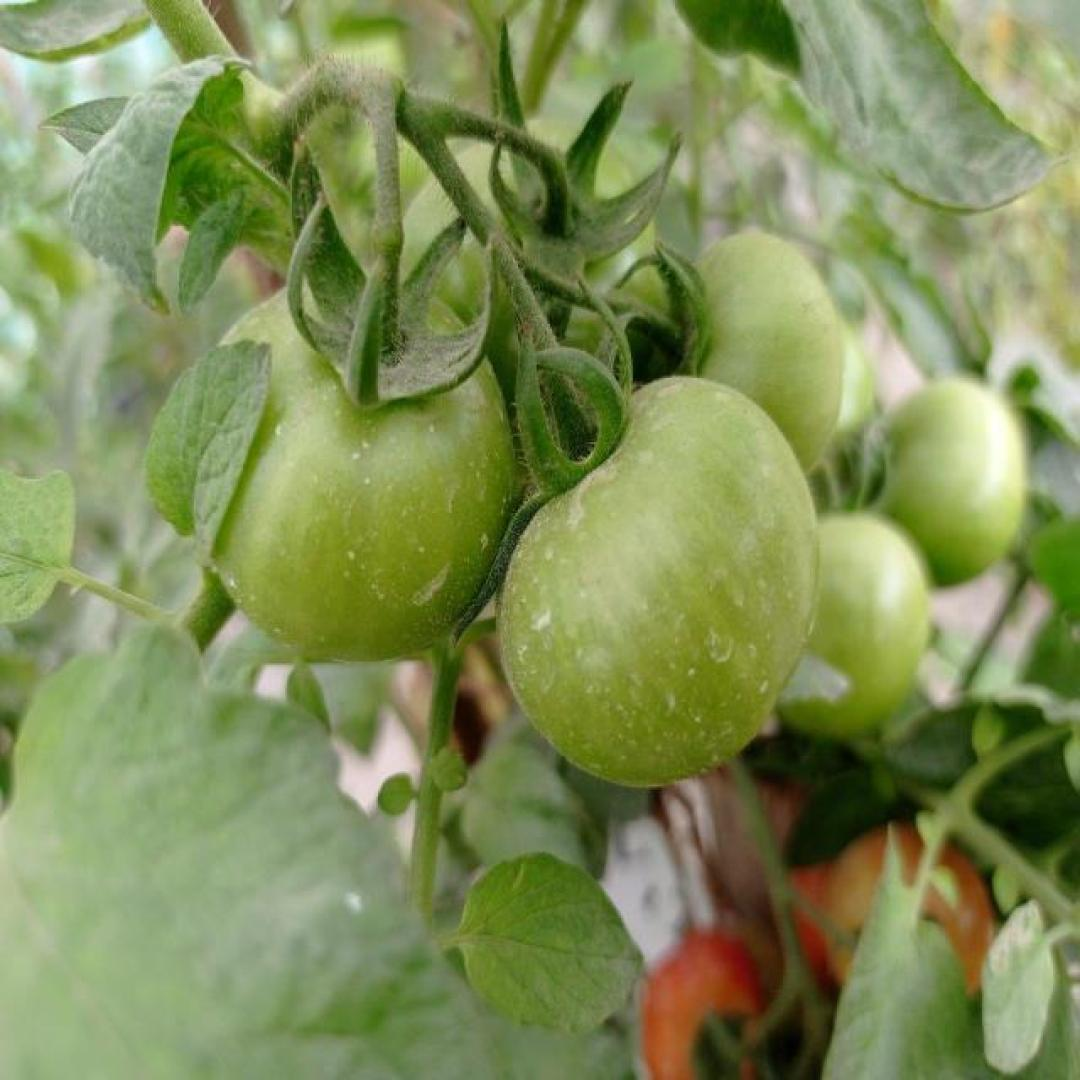mentah: (494, 373, 822, 795), (191, 263, 518, 665)
